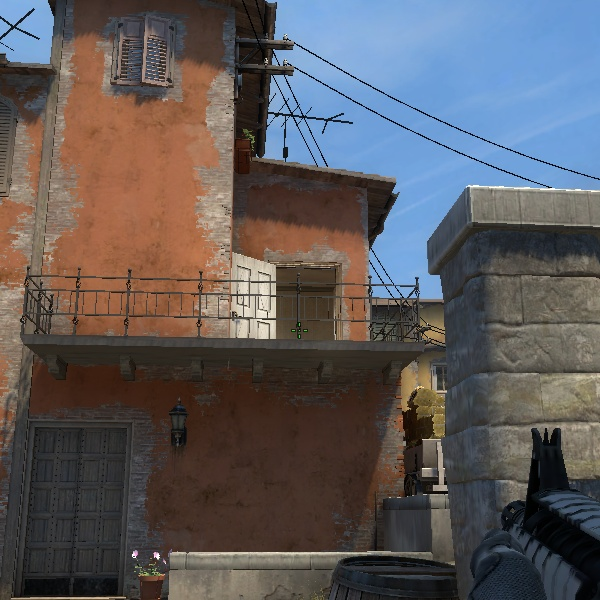ct_body: (133, 551, 176, 599)
